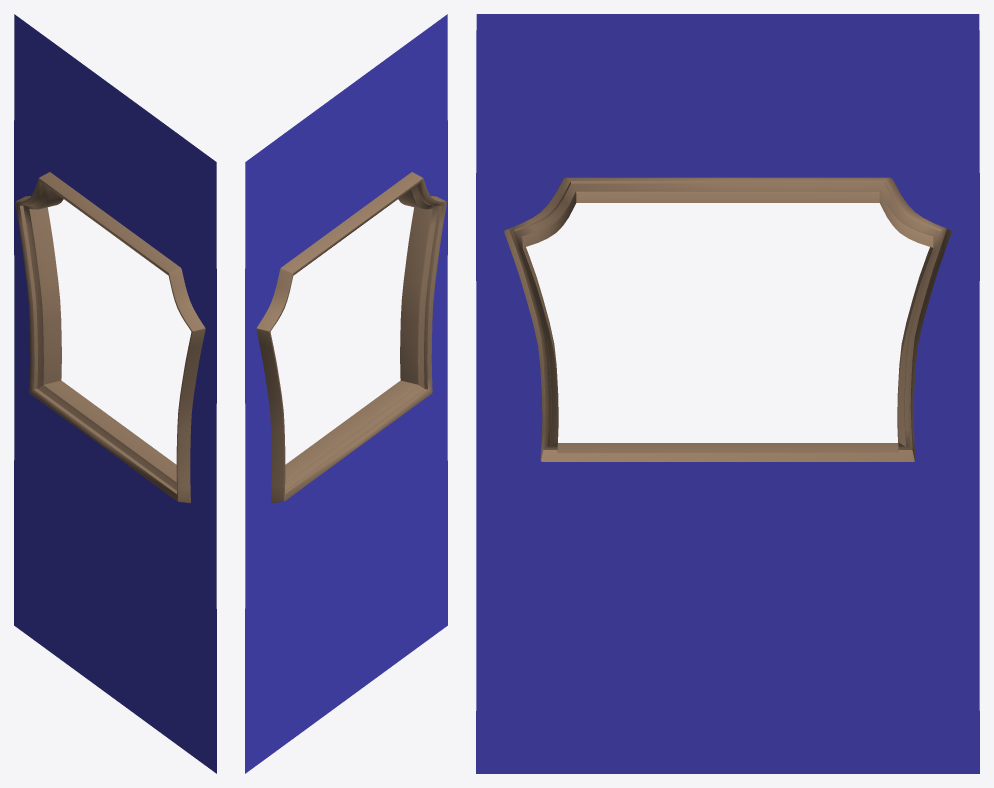
Rendered from SM_MurFenetre.fbx.
3 renders of one model, left to right at view 1: azimuth 30°, elevation 25°; view 2: azimuth 150°, elevation 25°; view 3: azimuth 270°, elevation 25°, orthographic. The views are drawn at different scales.
Visible parts, largest first — view 1: SM_MurFenetre_low; view 2: SM_MurFenetre_low; view 3: SM_MurFenetre_low.
Part boxes in pixels (x1=…): SM_MurFenetre_low: x1=14, y1=14, x2=216, y2=773; SM_MurFenetre_low: x1=245, y1=14, x2=447, y2=773; SM_MurFenetre_low: x1=476, y1=14, x2=979, y2=773.
Size of the model in its own units: 45.18 by 1000 by 601.
